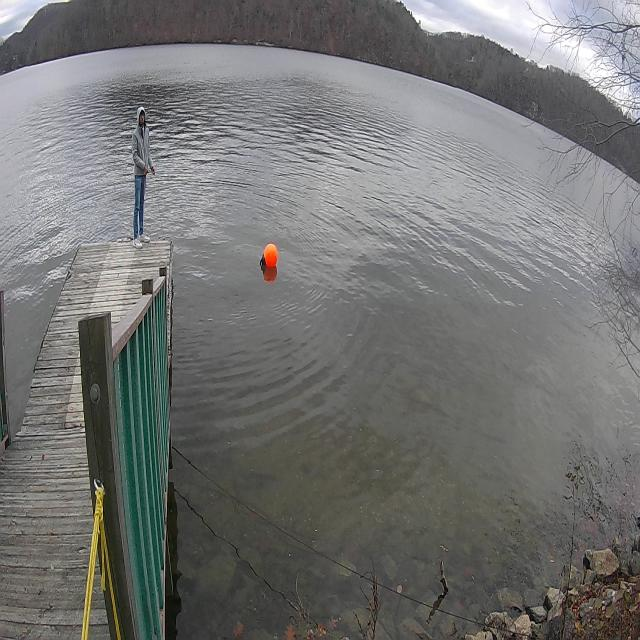Buoy: (261, 239, 279, 274)
